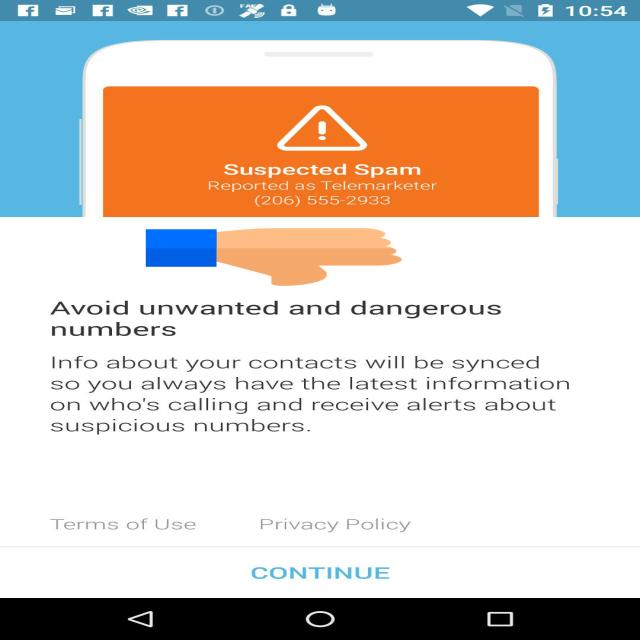obstruction: (146, 227, 402, 287)
